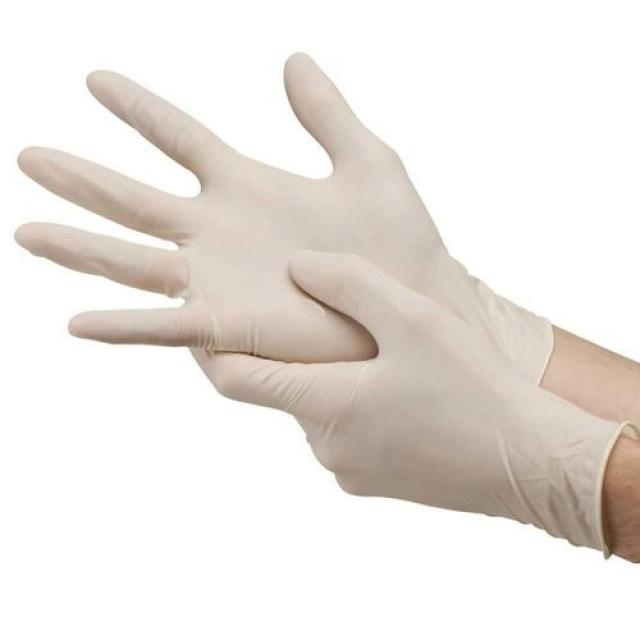Gloves: (9, 41, 571, 406), (187, 261, 602, 544)
